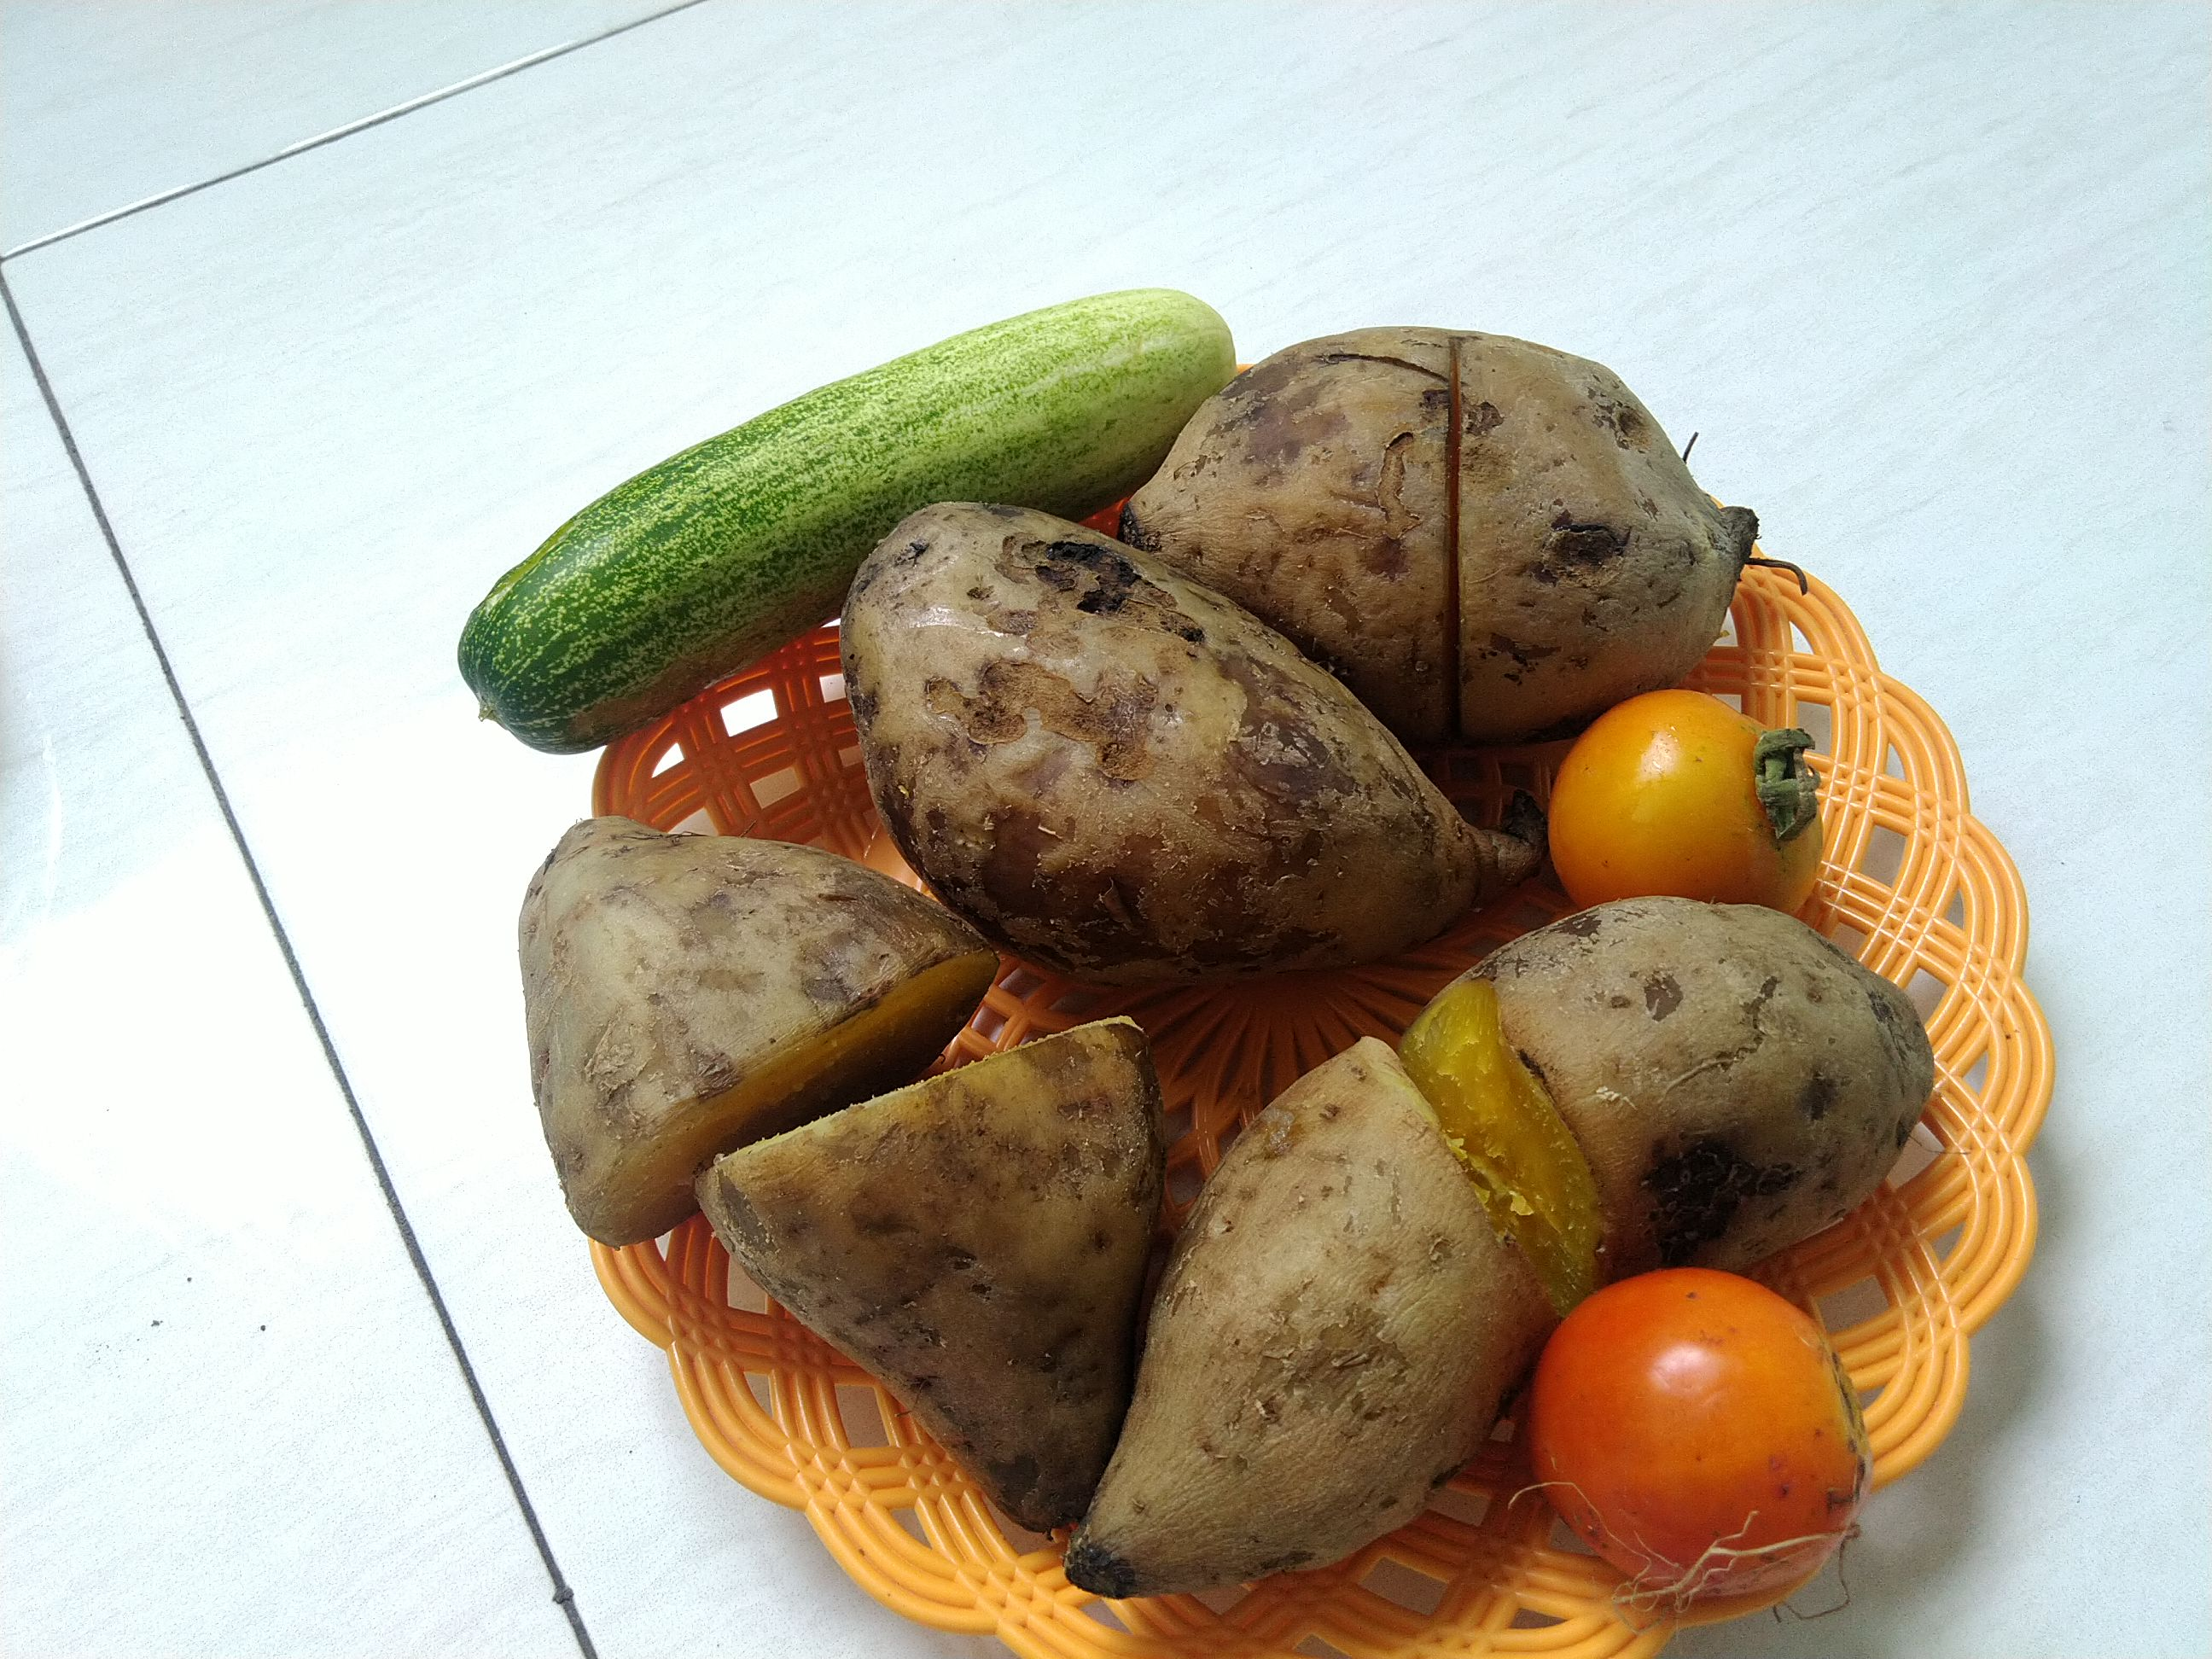ubi kuning: (841, 497, 1519, 976), (1054, 1028, 1545, 1603), (674, 1016, 1172, 1551), (1148, 314, 1742, 708), (1406, 890, 1970, 1283), (510, 807, 984, 1241)
